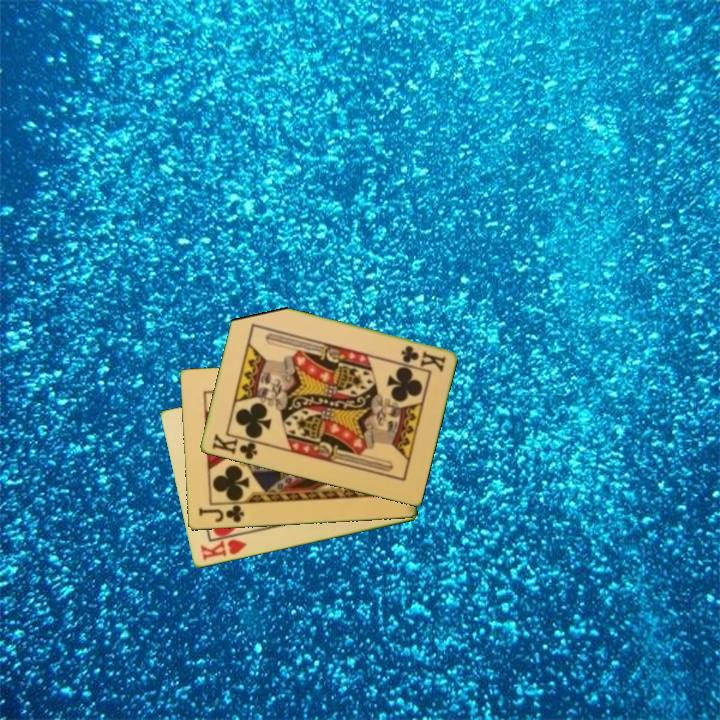Jc: (195, 502, 247, 526)
Kc: (208, 430, 264, 463), (397, 342, 448, 374)
Kh: (197, 531, 250, 564)
